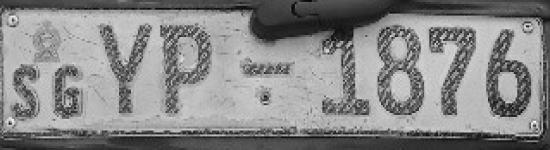-: (244, 62, 292, 76)
1: (319, 25, 372, 114)
6: (486, 27, 532, 117)
7: (430, 29, 475, 116)
8: (376, 25, 424, 113)
G: (55, 64, 82, 115)
P: (161, 25, 212, 115)
S: (13, 65, 40, 116)
Y: (102, 24, 151, 114)
